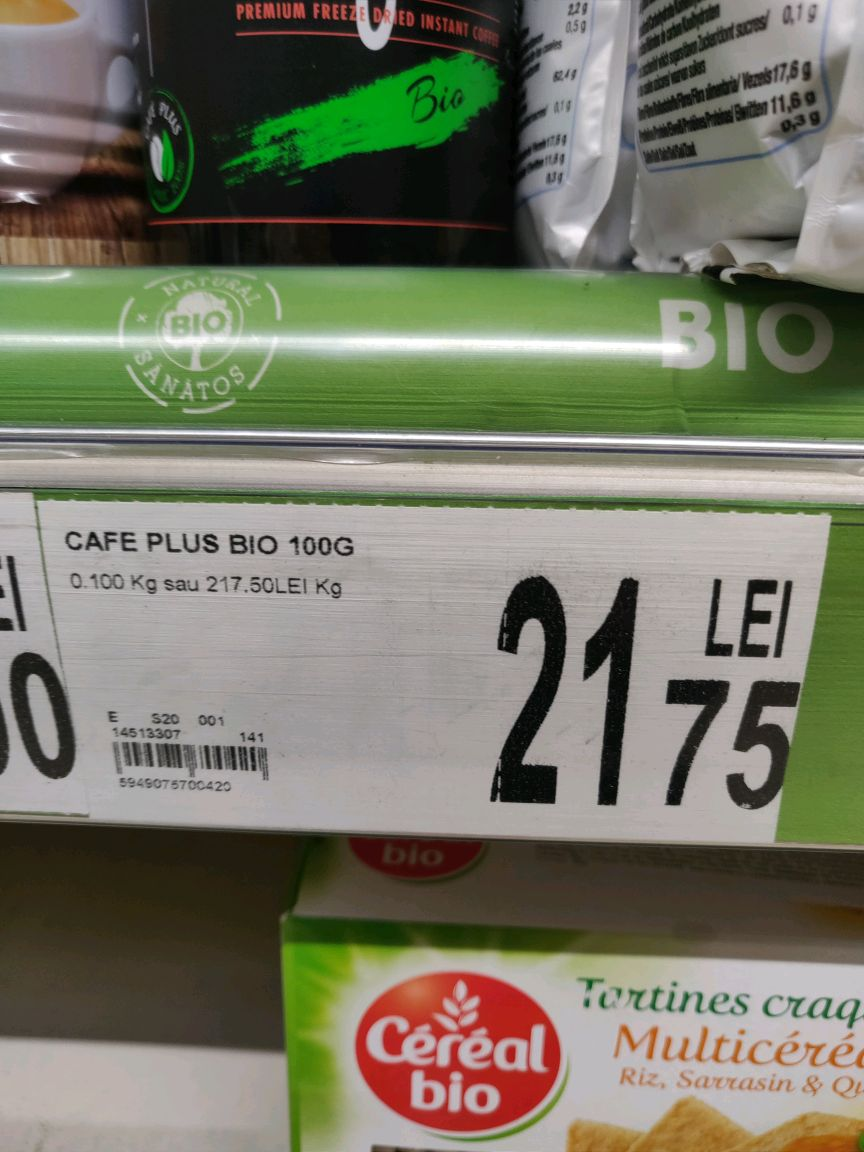price_bani: (659, 667, 808, 828)
price_lei: (469, 571, 652, 810)
price_tag: (35, 493, 838, 851)
product_id: (106, 776, 249, 792)
product_name: (50, 523, 380, 558)
